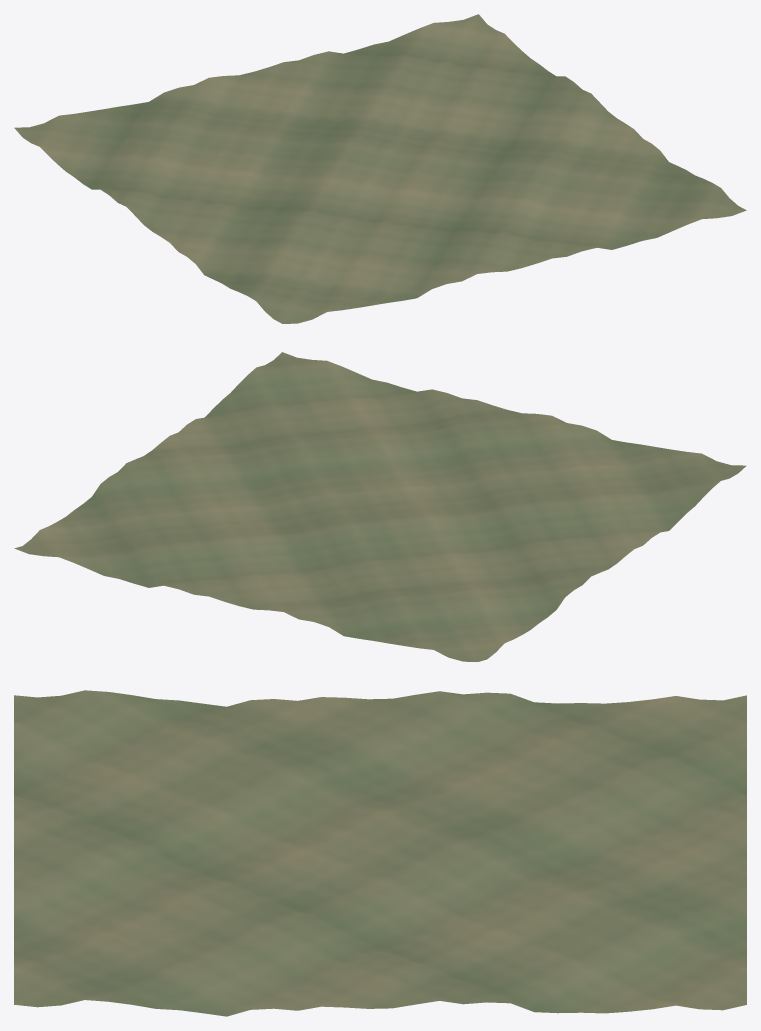
Rendered from MapBG_01_葫芦山脚宣纸底.glb.
3 views of the same model, one above another, from view 1: azimuth 30°, elevation 25°; view 2: azimuth 150°, elevation 25°; view 3: azimuth 270°, elevation 25° (orthographic). The views are drawn at different scales.
Parts seen in each view (by area): view 1: TerrainTile; view 2: TerrainTile; view 3: TerrainTile.
Part boxes in pixels (x1,y1,x2,y2): TerrainTile: [14, 14, 746, 323]; TerrainTile: [14, 352, 746, 661]; TerrainTile: [14, 690, 746, 1016].
Size of the model in its own units: 8 by 0.2002 by 8.
Materials: 1 (1 with a texture image).
